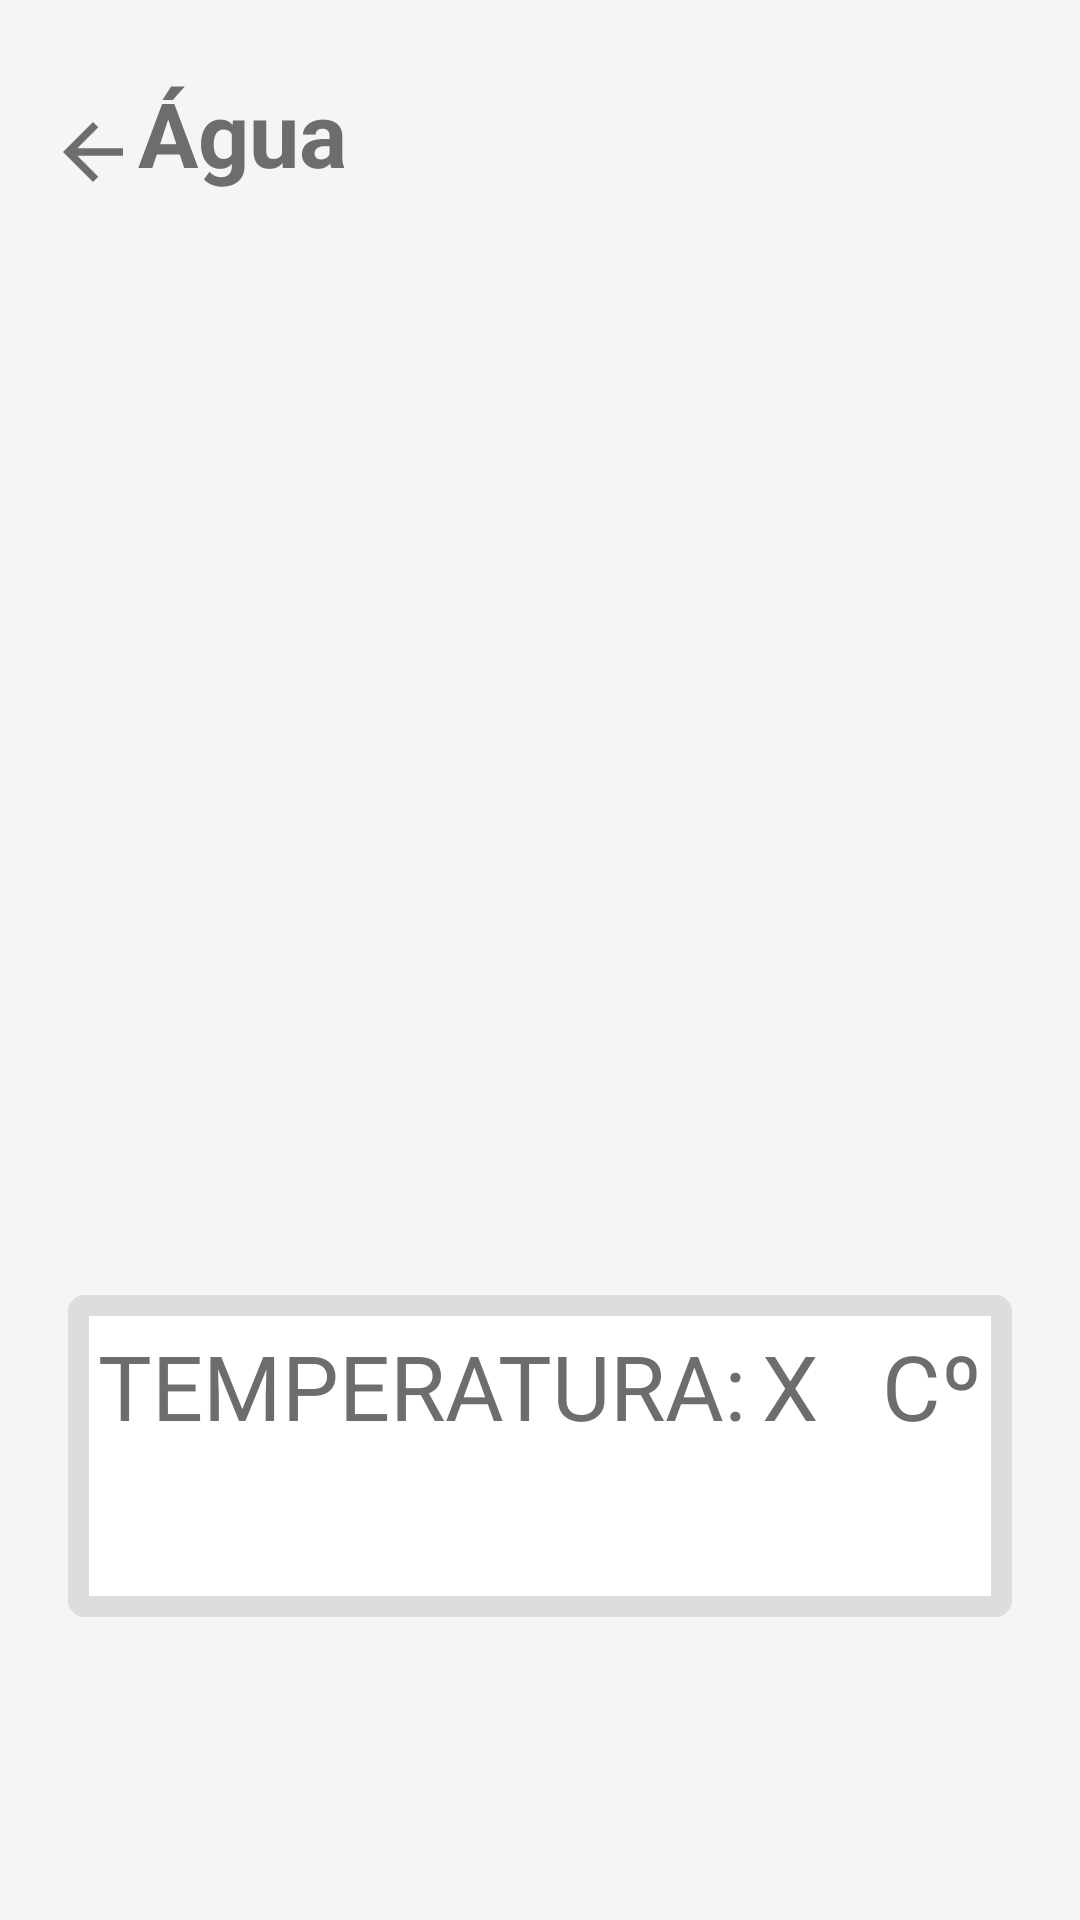

Where to tap for icons on this 1080x1920 app screen, as (x,y):
arrowback: (93,152)
